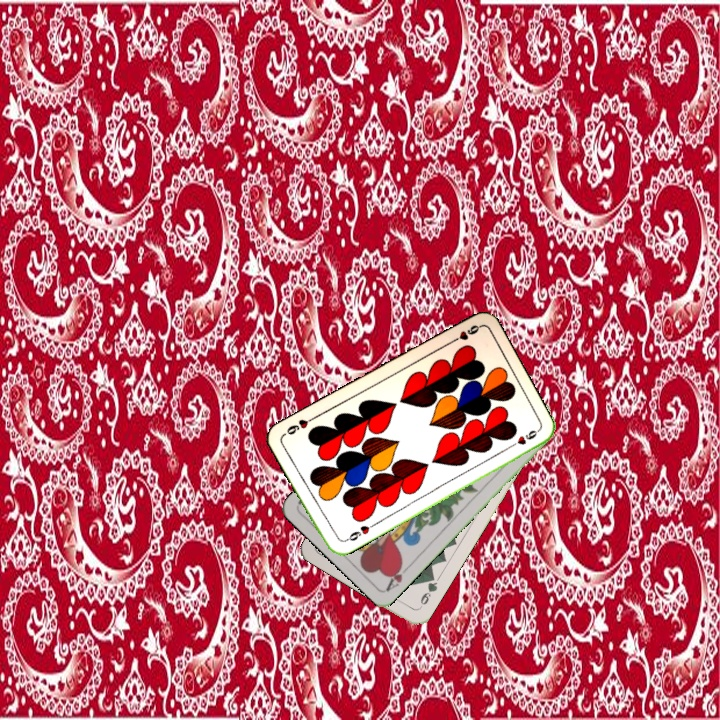G9: (415, 572, 440, 611)
H9: (445, 321, 483, 347), (339, 520, 377, 545)
HA: (382, 558, 414, 593)
